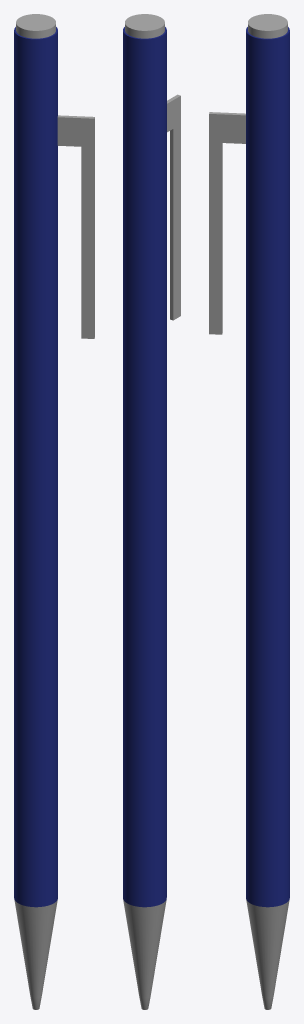
The model's file is pen.fbx.
The picture shows the model from 3 angles, left to right: view 1: azimuth 90°, elevation 25°; view 2: azimuth 150°, elevation 25°; view 3: azimuth 270°, elevation 25°; orthographic projection.
Visible parts, largest first — view 1: Pen; view 2: Pen; view 3: Pen.
Boxes of the visible parts, bbox=[...] form: Pen: bbox=[14, 14, 94, 1009]; Pen: bbox=[123, 14, 180, 1009]; Pen: bbox=[209, 14, 289, 1009].
Bounding box in the file's own units: 10.22 × 253 × 18.79.
